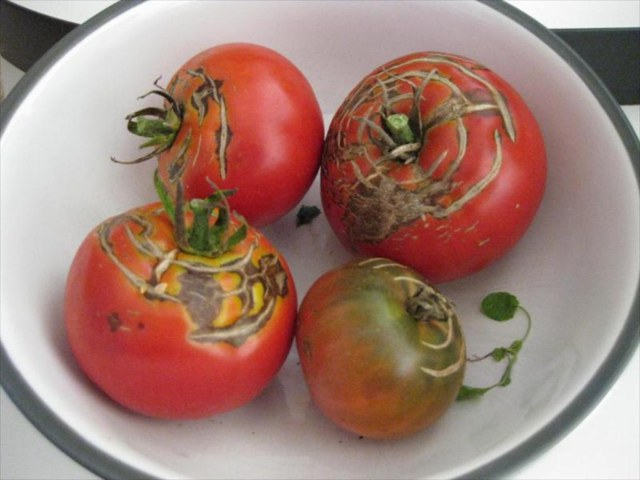tomato: (66, 166, 297, 417), (322, 51, 547, 283), (111, 42, 322, 227), (297, 254, 466, 439)
